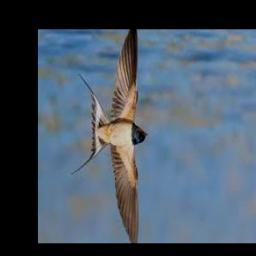Swallow: (70, 29, 147, 243)
